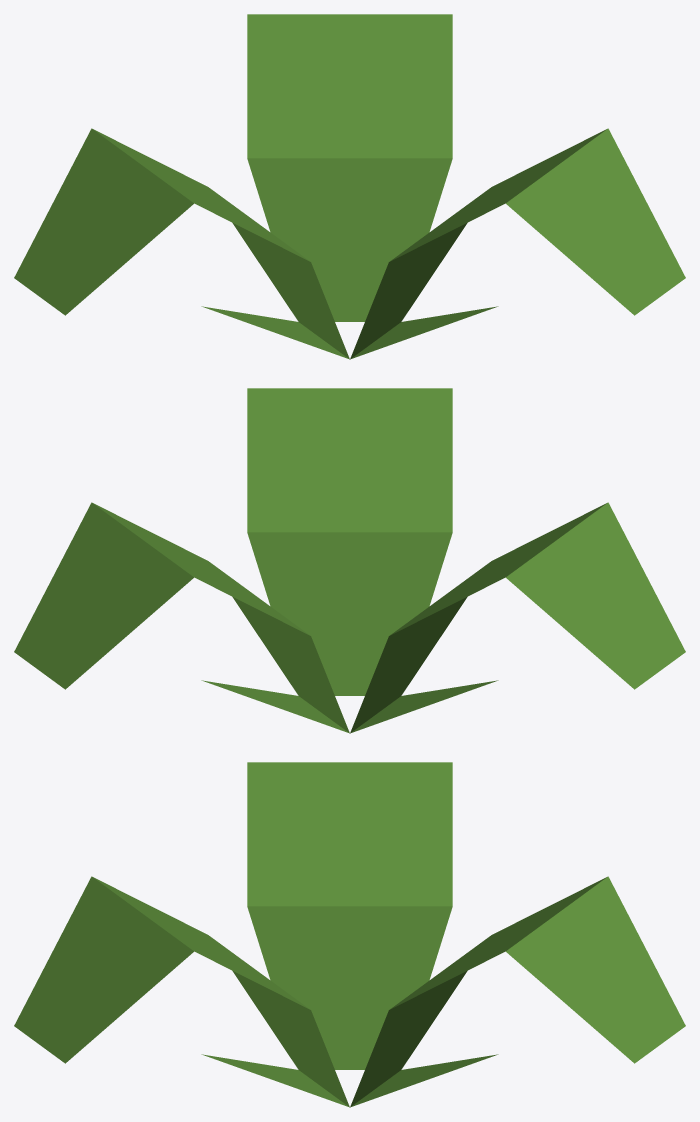
Rendered from proto_bush_tri.glb.
The picture shows the model from 3 angles, top to bottom: view 1: azimuth 30°, elevation 25°; view 2: azimuth 150°, elevation 25°; view 3: azimuth 270°, elevation 25°; orthographic projection.
Visible parts, largest first — view 1: plant_bushLargeTriangle; view 2: plant_bushLargeTriangle; view 3: plant_bushLargeTriangle.
Boxes of the visible parts, <box> form: plant_bushLargeTriangle: <box>14,14,685,359</box>; plant_bushLargeTriangle: <box>14,388,685,733</box>; plant_bushLargeTriangle: <box>14,762,685,1107</box>.
Bounding box in the file's own units: 4.33 × 1.8 × 5.
